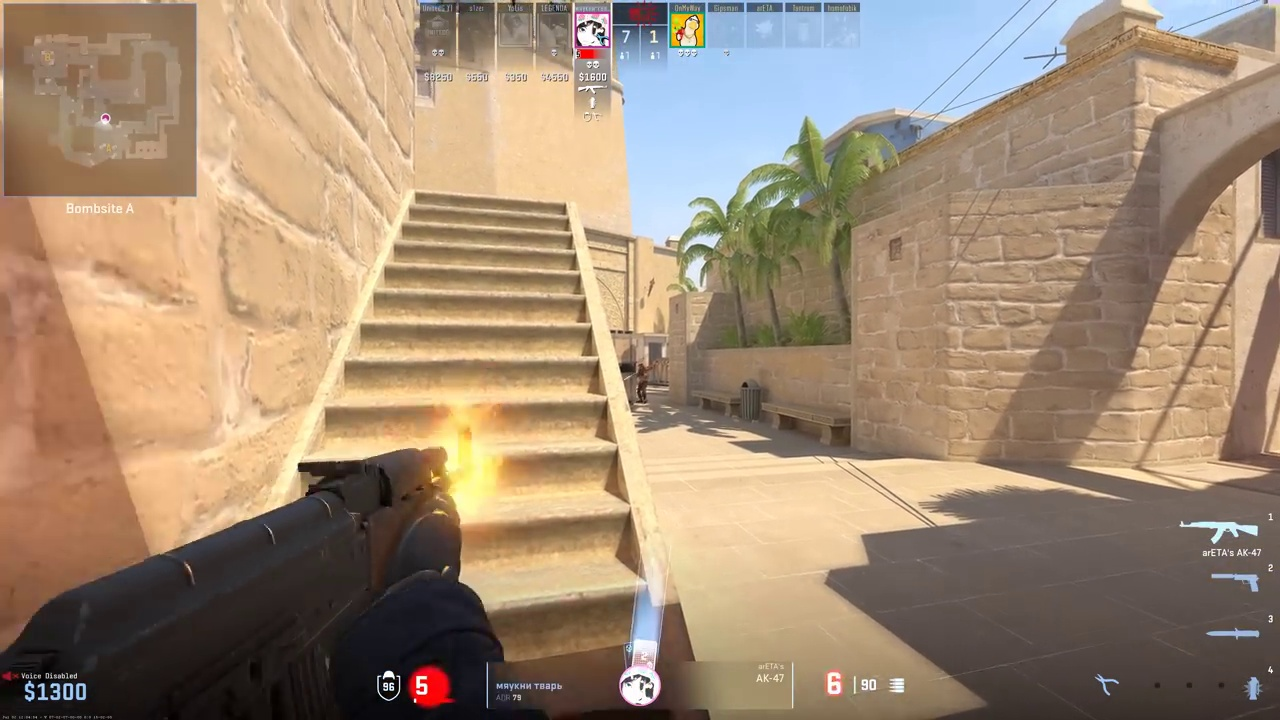Terrorist: (636, 363, 649, 404)
